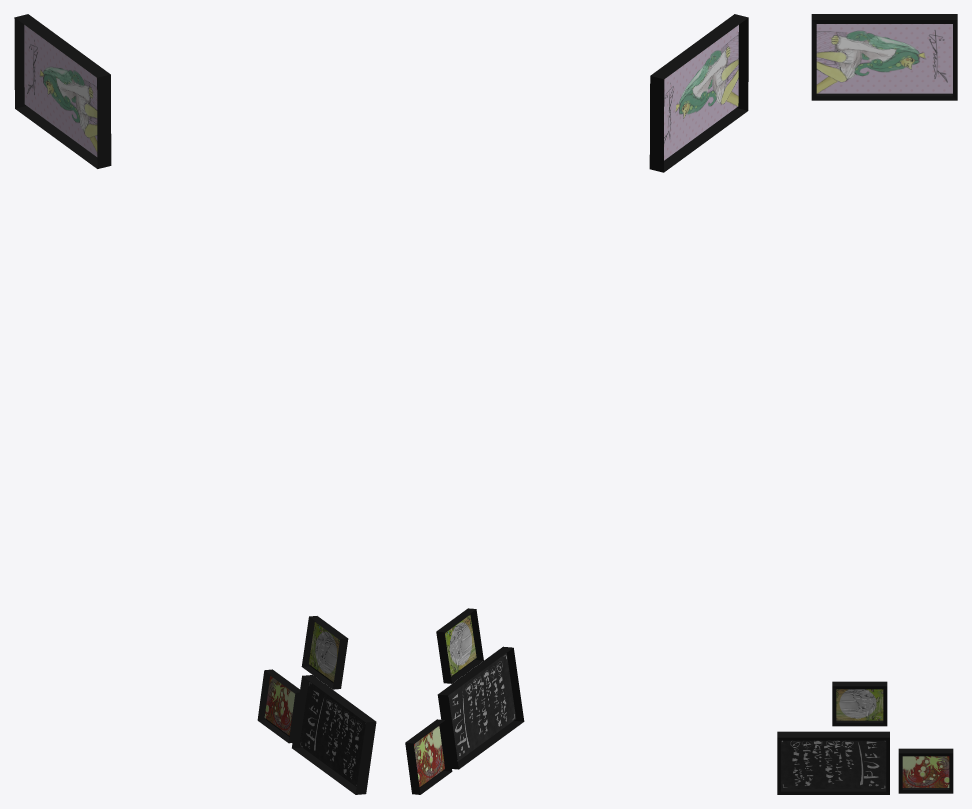
The model's file is art.fbx.
3 renders of one model, left to right at view 1: azimuth 30°, elevation 25°; view 2: azimuth 150°, elevation 25°; view 3: azimuth 270°, elevation 25°, orthographic. The views are drawn at different scales.
Visible parts, largest first — view 1: Plane.005; view 2: Plane.005; view 3: Plane.005.
Boxes of the visible parts, x1,y1,x2,y2 form: Plane.005: (14,14,376,794); Plane.005: (405,14,748,794); Plane.005: (777,14,957,794).
Bounding box in the file's own units: 191 × 529 × 129.
